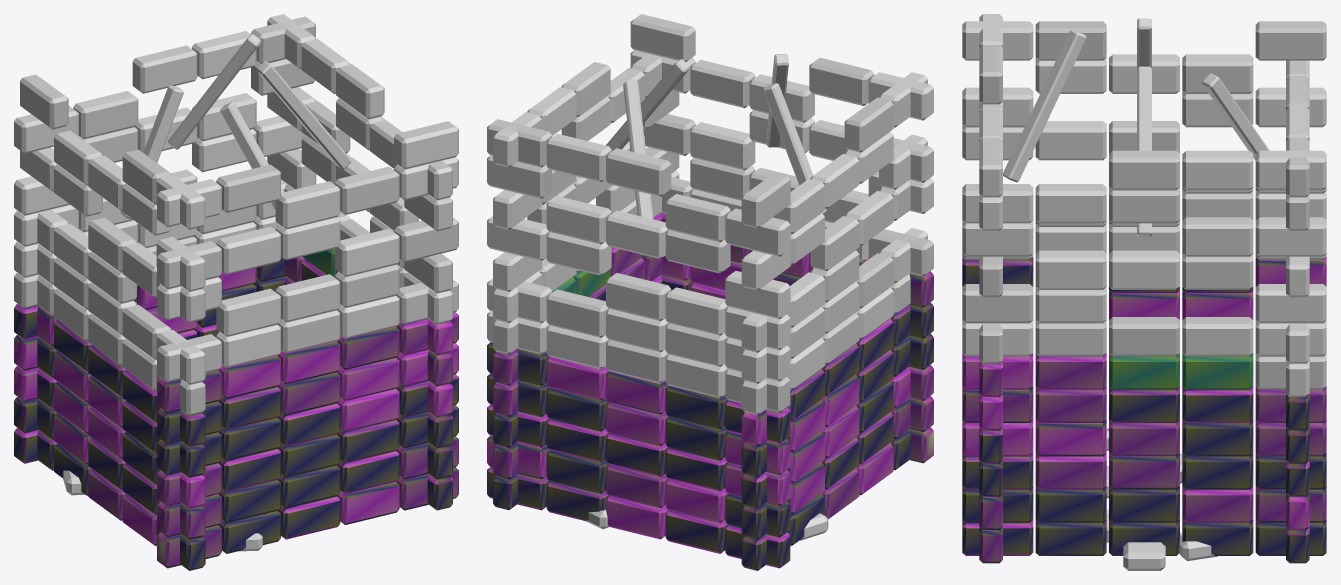
Rendered from Tower_Broken.fbx.
The picture shows the model from 3 angles, left to right: view 1: azimuth 30°, elevation 25°; view 2: azimuth 150°, elevation 25°; view 3: azimuth 270°, elevation 25°; orthographic projection. The views are drawn at different scales.
Visible parts, largest first — view 1: Tower_Broken; view 2: Tower_Broken; view 3: Tower_Broken.
Part boxes in pixels (x1,y1,x2,y2): Tower_Broken: (14, 14, 458, 570); Tower_Broken: (487, 14, 933, 570); Tower_Broken: (962, 14, 1326, 570).
Size of the model in its own units: 464 by 594 by 447.
